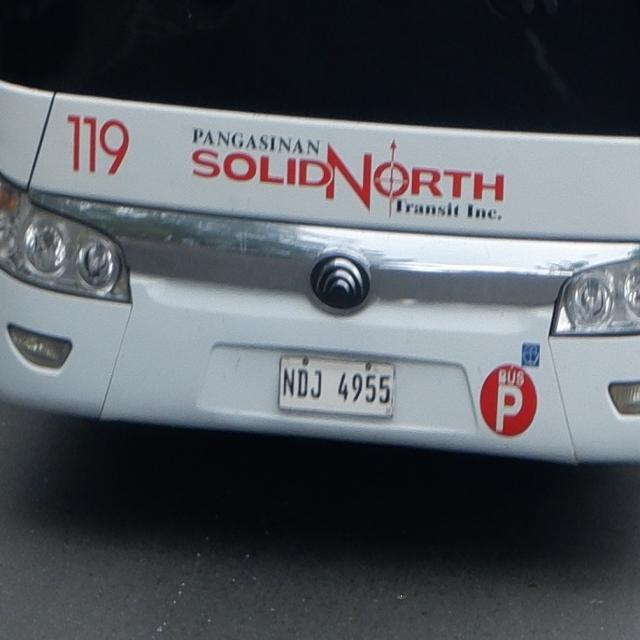LicensePlate: (269, 350, 396, 429)
